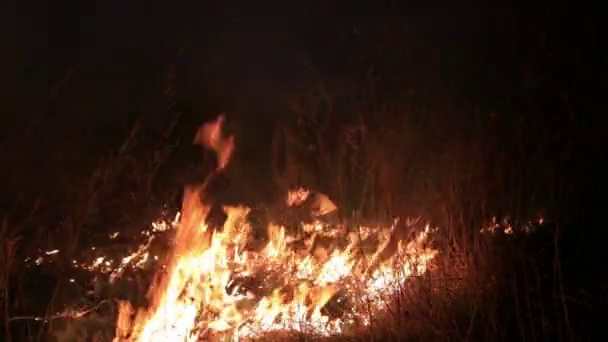fire: (122, 197, 433, 342), (192, 112, 234, 165), (93, 259, 111, 273), (504, 224, 514, 232)
